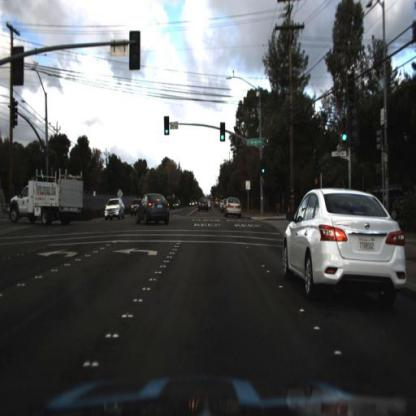car: (278, 177, 411, 311), (378, 177, 411, 230), (133, 190, 173, 227), (222, 195, 246, 218), (104, 196, 126, 220), (197, 198, 211, 214), (171, 198, 184, 213)
trafficLight-Green: (340, 114, 349, 145), (341, 131, 352, 149), (219, 129, 228, 148), (260, 158, 268, 178), (220, 122, 226, 143), (164, 124, 171, 140), (260, 167, 266, 179)
truck: (7, 169, 88, 229), (9, 167, 85, 227)
